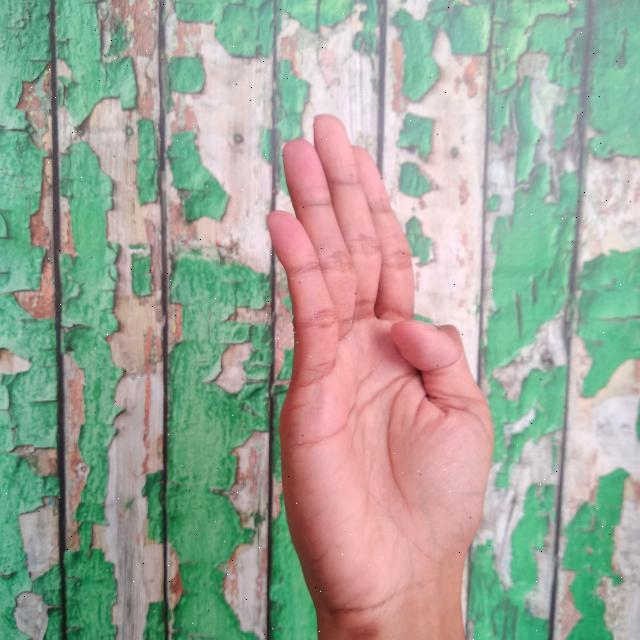B: (262, 106, 502, 640)
